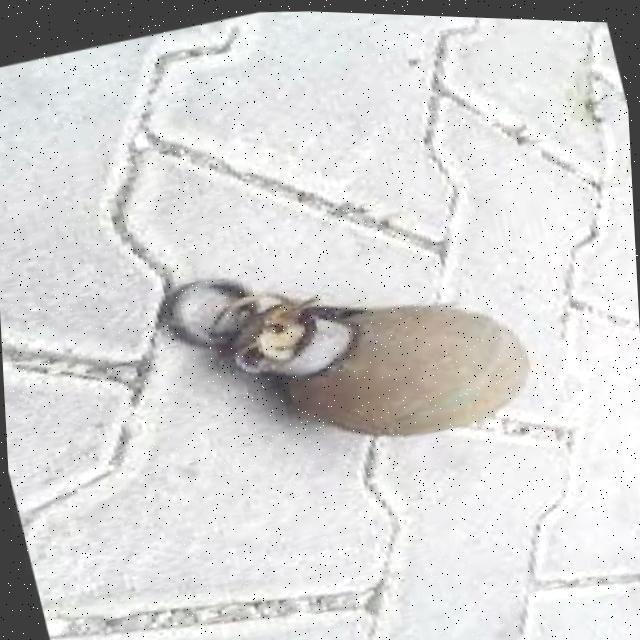grenade: (130, 200, 540, 504)
